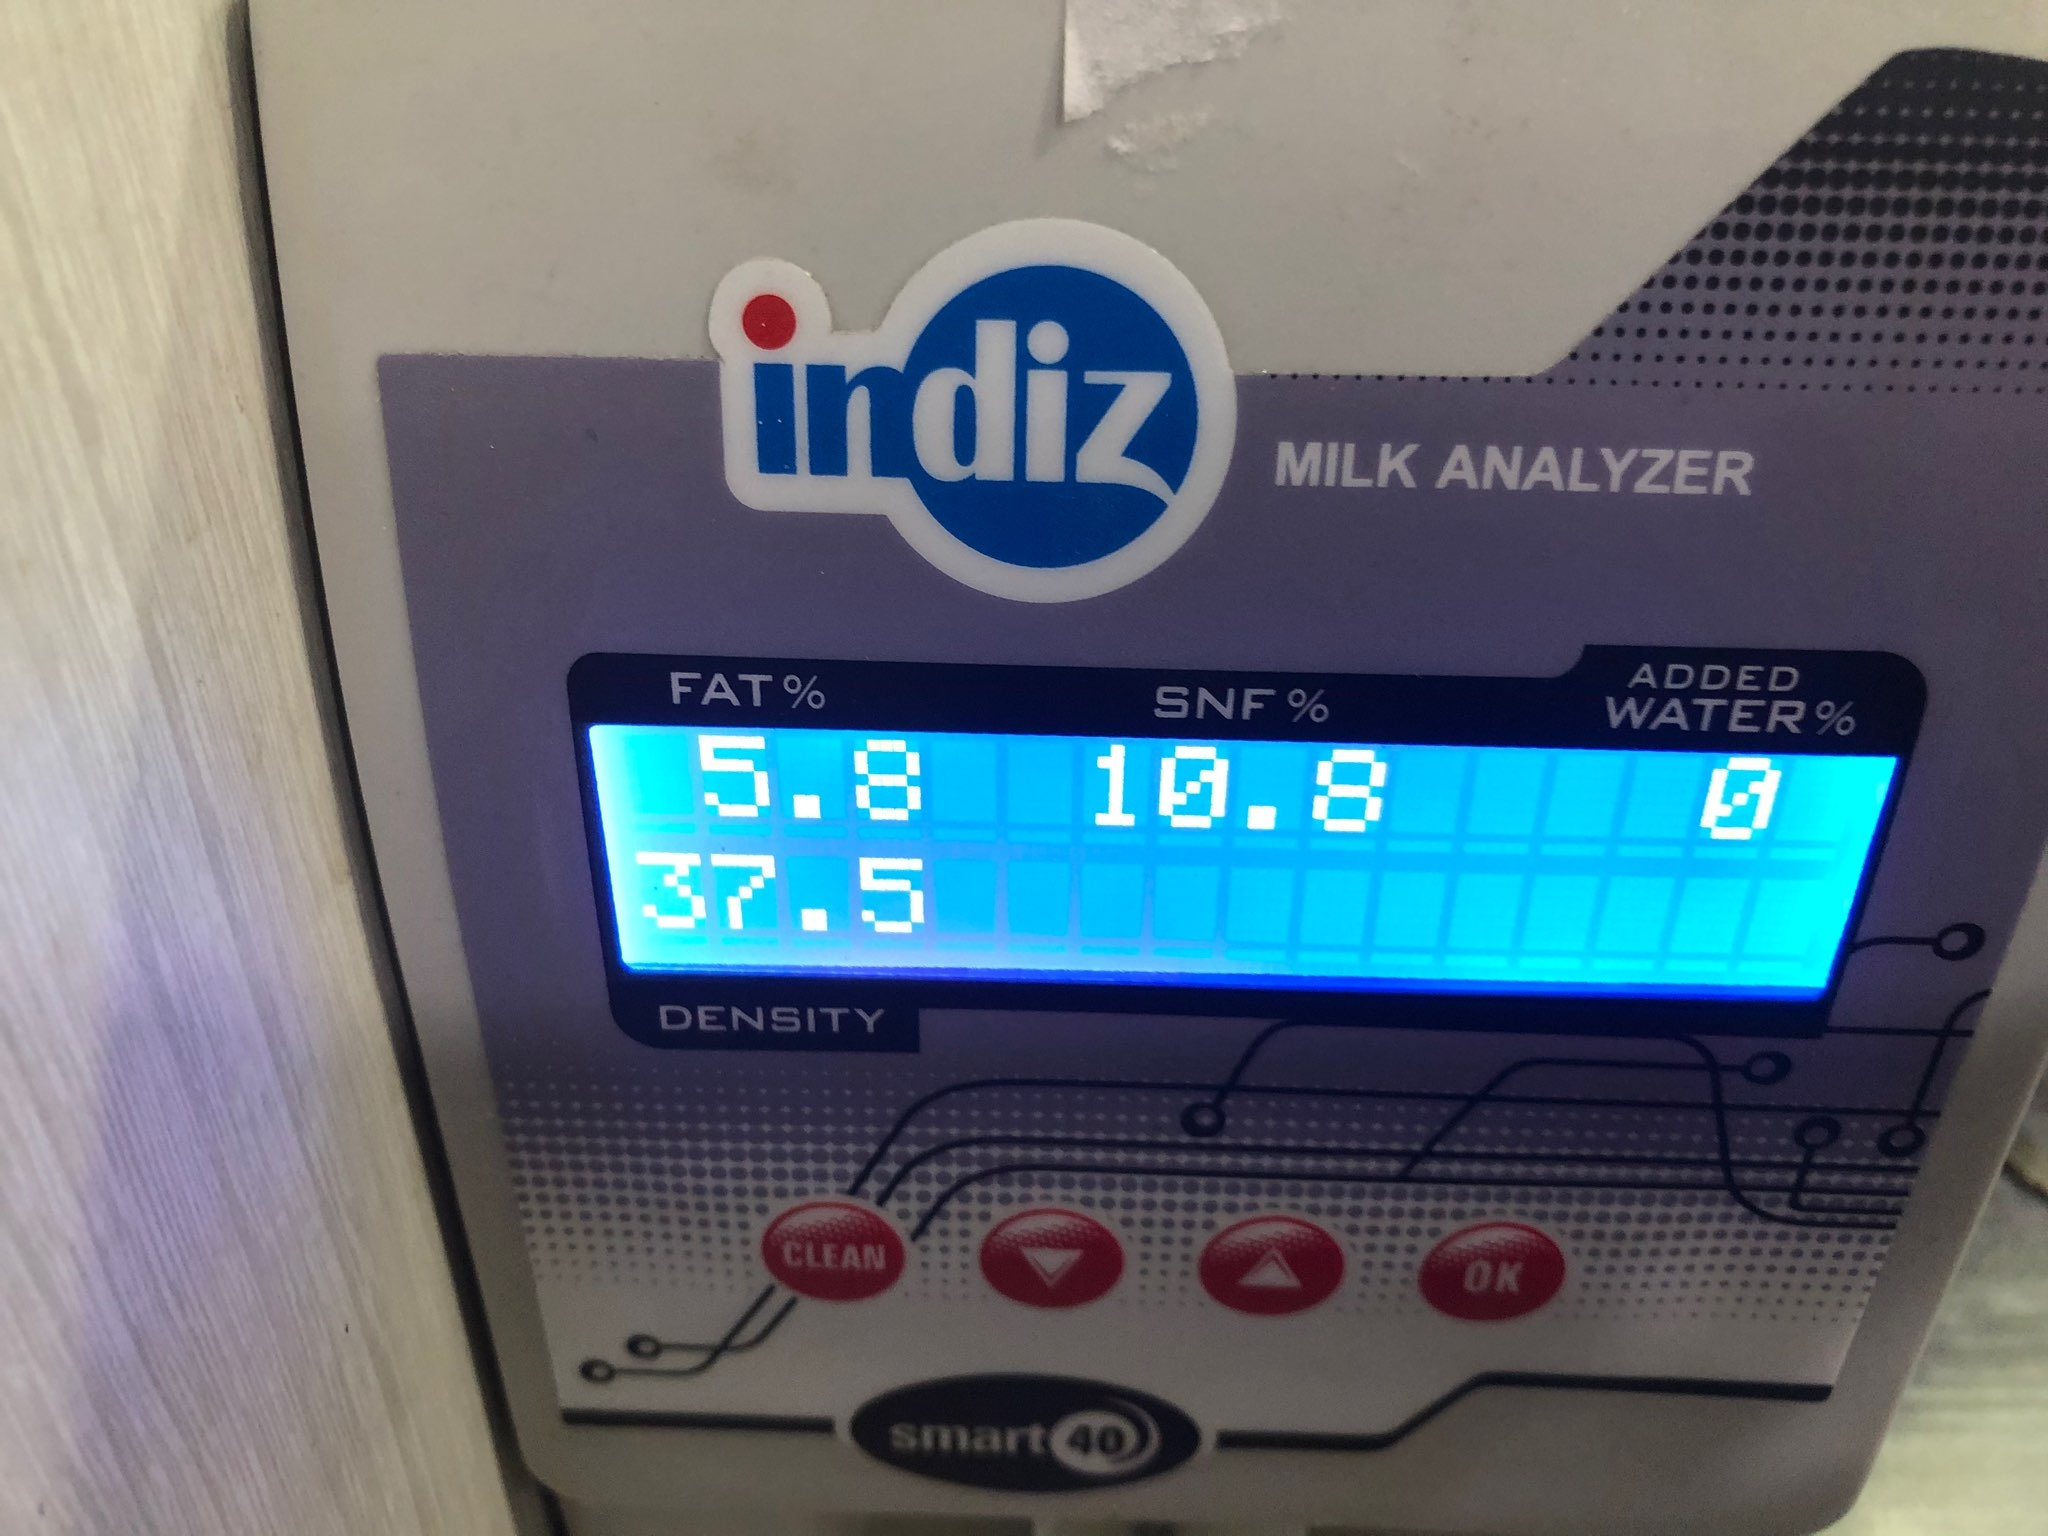lcd: (564, 620, 1921, 1099)
